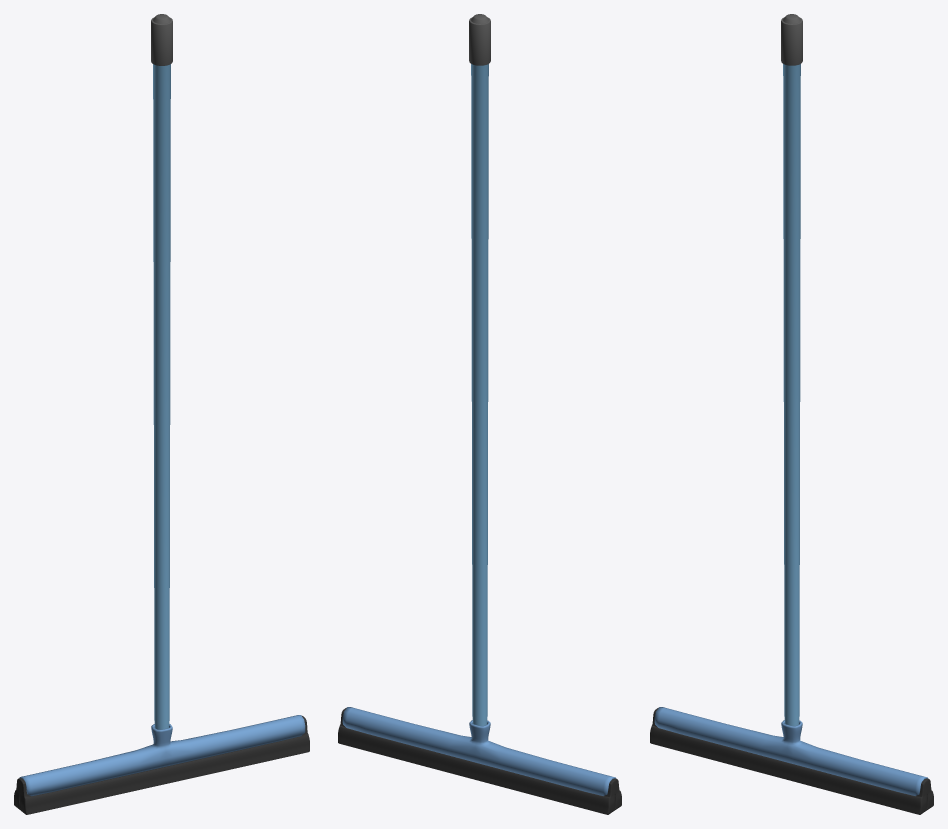
File: cekpas.fbx
3 renders of one model, left to right at view 1: azimuth 30°, elevation 25°; view 2: azimuth 150°, elevation 25°; view 3: azimuth 330°, elevation 25°, orthographic.
Visible parts, largest first — view 1: GumStick, Plastic_Gum, Gum; view 2: GumStick, Plastic_Gum, Gum; view 3: GumStick, Plastic_Gum, Gum.
Boxes of the visible parts, x1,y1,x2,y2 form: GumStick: (151,14,172,729); Plastic_Gum: (19,715,305,796); Gum: (14,715,309,814); GumStick: (469,14,490,725); Plastic_Gum: (342,707,616,795); Gum: (338,707,621,814); GumStick: (781,14,802,725); Plastic_Gum: (654,707,928,795); Gum: (650,707,933,814).
Size of the model in its own units: 168 by 437 by 20.27.
